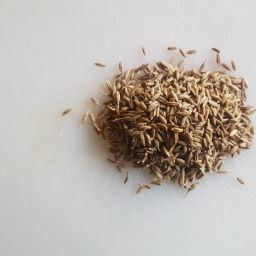Cumin (zeera): (59, 38, 256, 203), (111, 39, 250, 180), (110, 70, 249, 185)
